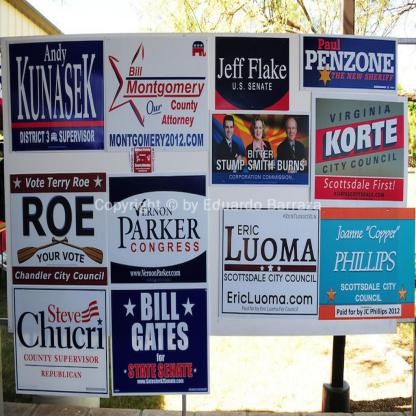face: (226, 121, 234, 138), (255, 123, 263, 140), (288, 123, 296, 140)
